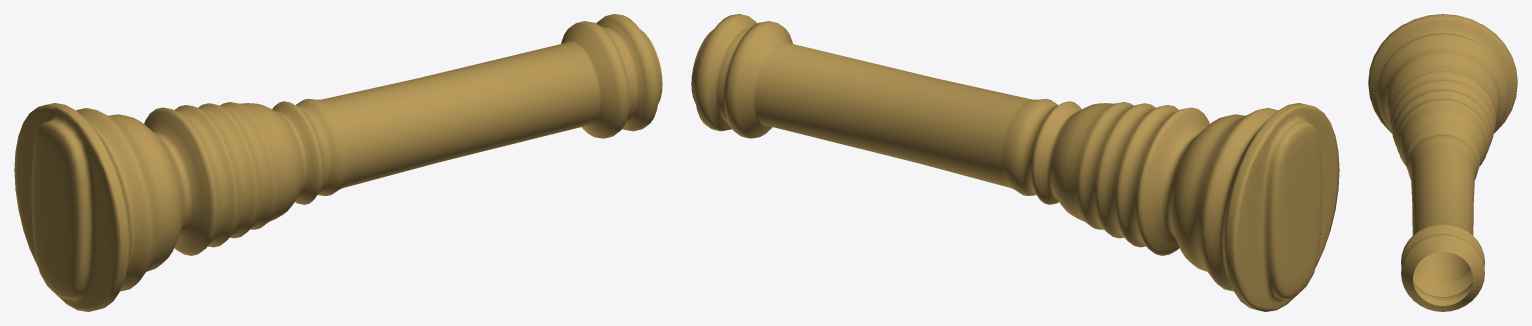
The model's file is Key2.fbx.
The picture shows the model from 3 angles, left to right: view 1: azimuth 30°, elevation 25°; view 2: azimuth 150°, elevation 25°; view 3: azimuth 270°, elevation 25°; orthographic projection. The views are drawn at different scales.
Visible parts, largest first — view 1: Mesh; view 2: Mesh; view 3: Mesh.
Boxes of the visible parts, bbox=[...] form: Mesh: bbox=[14, 14, 662, 311]; Mesh: bbox=[691, 14, 1339, 311]; Mesh: bbox=[1368, 14, 1517, 311].
Size of the model in its own units: 0.2025 by 0.0633 by 0.0633.
